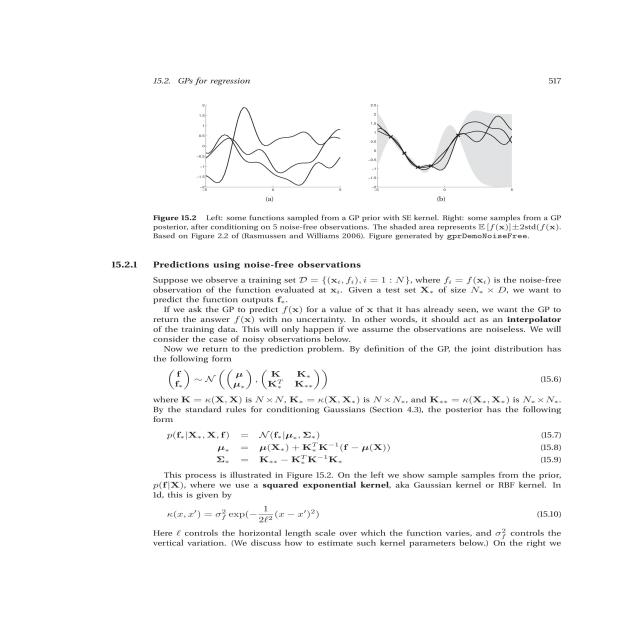diagram: (118, 88, 577, 255)
